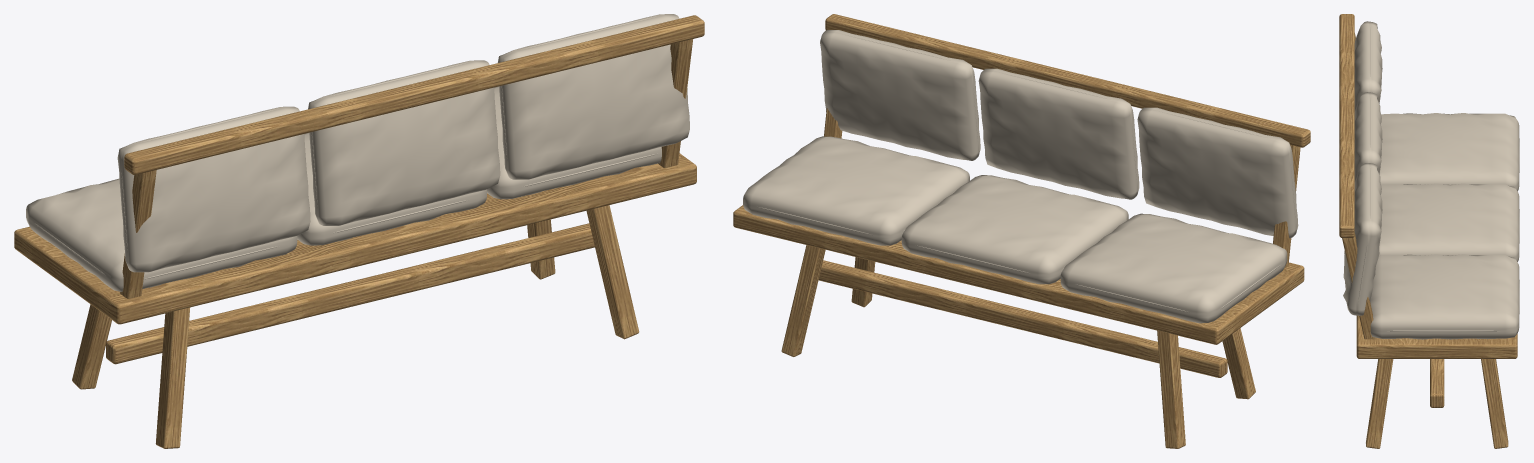
Rendered from residential-dining-bench.glb.
The picture shows the model from 3 angles, left to right: view 1: azimuth 30°, elevation 25°; view 2: azimuth 150°, elevation 25°; view 3: azimuth 270°, elevation 25°; orthographic projection. The views are drawn at different scales.
Visible parts, largest first — view 1: cloth_surfaces, oak_surfaces; view 2: cloth_surfaces, oak_surfaces; view 3: cloth_surfaces, oak_surfaces.
Boxes of the visible parts, box(x1,y1,x2,y2) form: cloth_surfaces: box(26, 14, 689, 291); oak_surfaces: box(14, 15, 704, 448); cloth_surfaces: box(743, 30, 1298, 323); oak_surfaces: box(733, 14, 1310, 448); cloth_surfaces: box(1343, 21, 1519, 339); oak_surfaces: box(1339, 14, 1517, 448).
Size of the model in its own units: 1.59 by 0.8328 by 0.5604.
2 materials, 1 textured.
